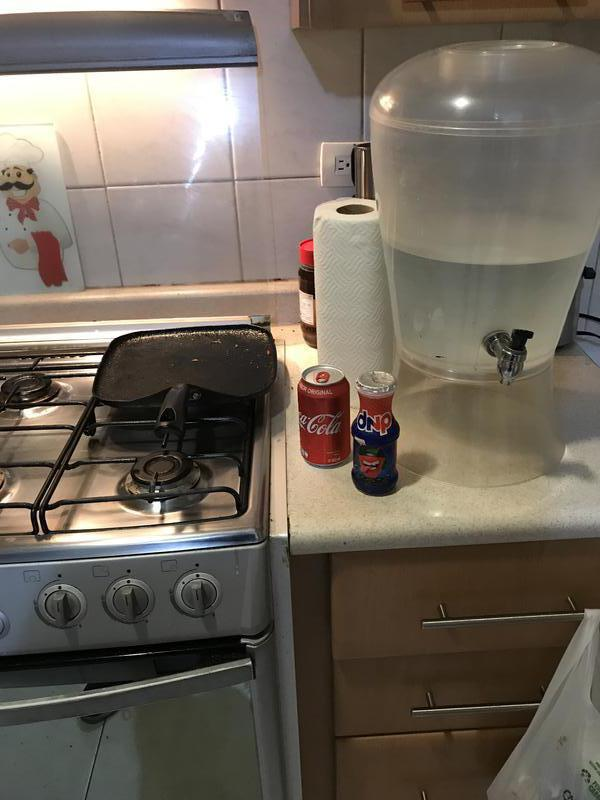coca_cola: (296, 363, 355, 467)
danup: (352, 377, 401, 499)
